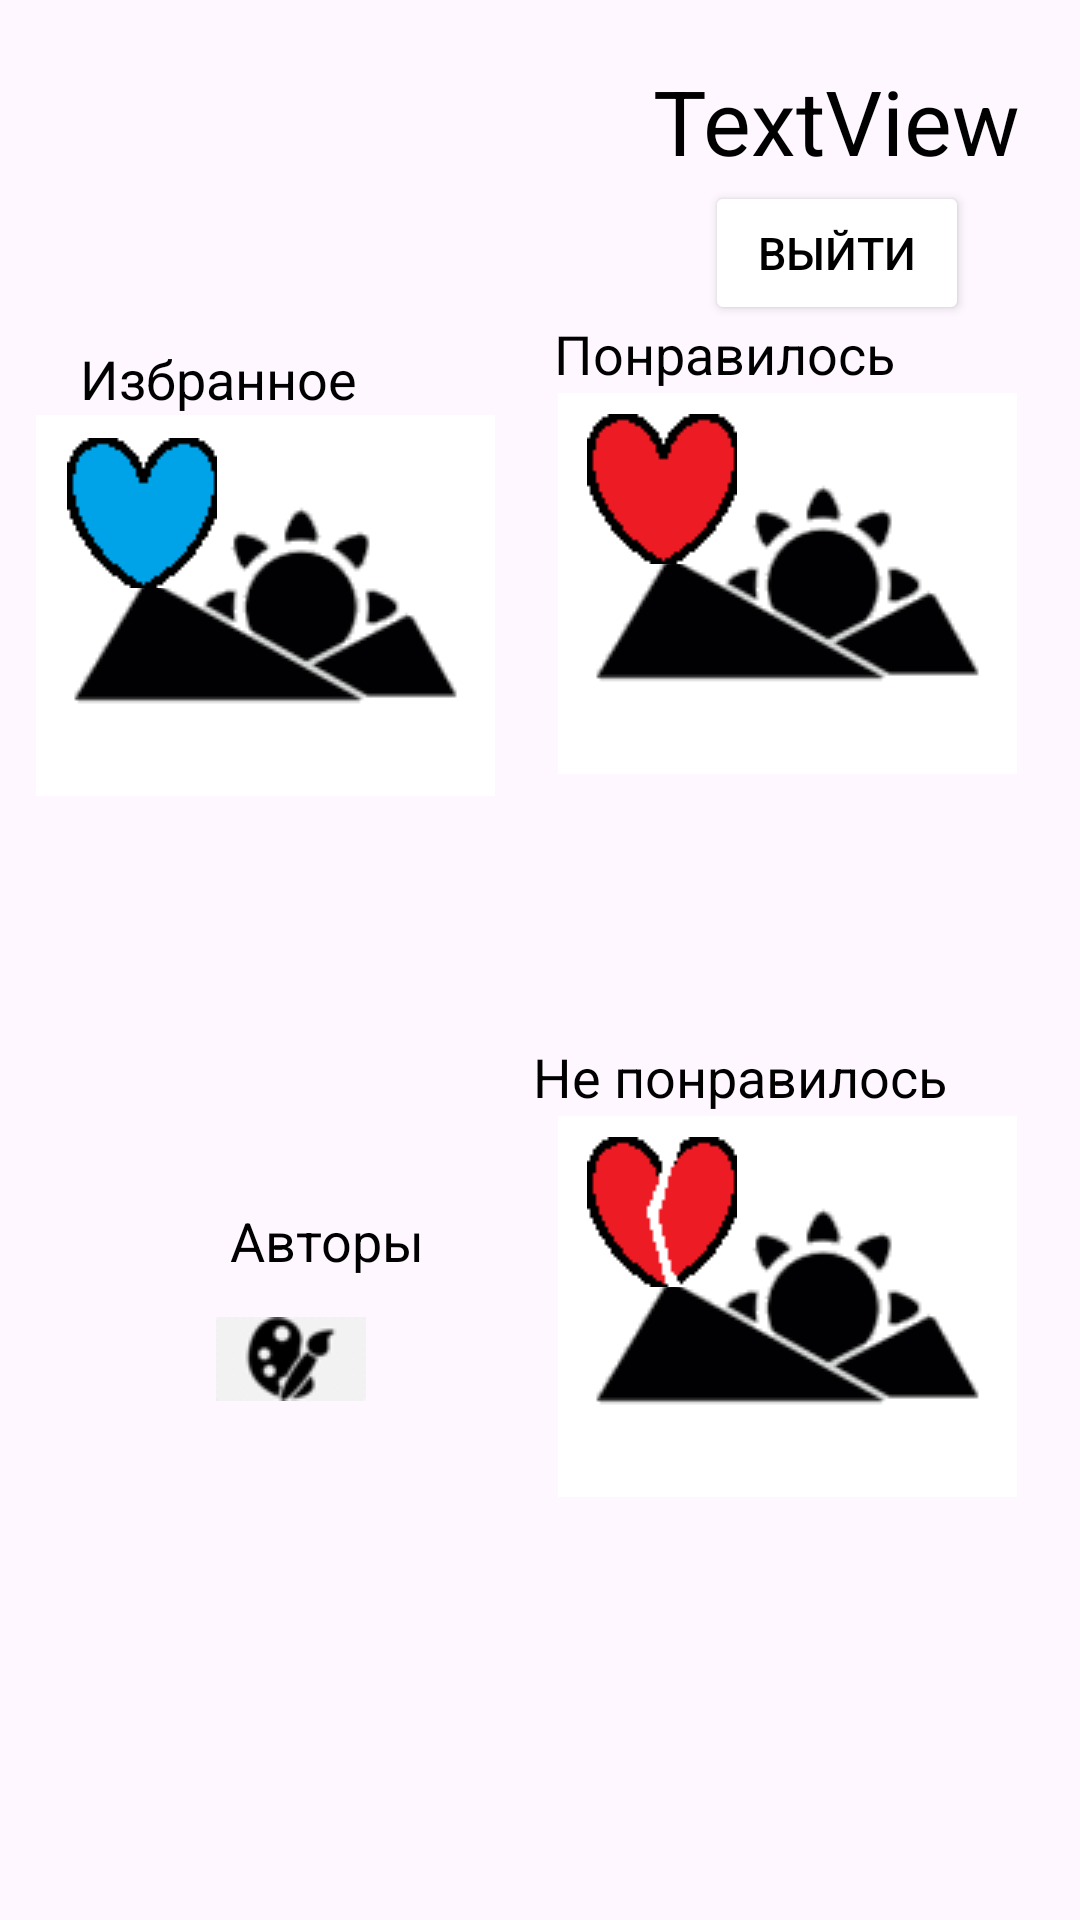

Locate icon controls on the screen. Image size 1080px×1920px, boxes as region(x1, y1, x2, y2).
avapainter: region(245, 1317, 336, 1401)
